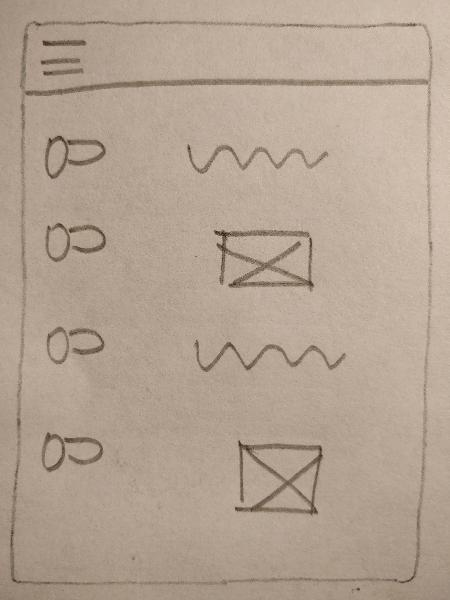image: (211, 216, 316, 297), (223, 436, 328, 517)
switch: (39, 130, 112, 182), (39, 212, 112, 264), (39, 319, 112, 371), (35, 428, 108, 480)
text: (181, 136, 341, 184), (187, 332, 347, 380)
